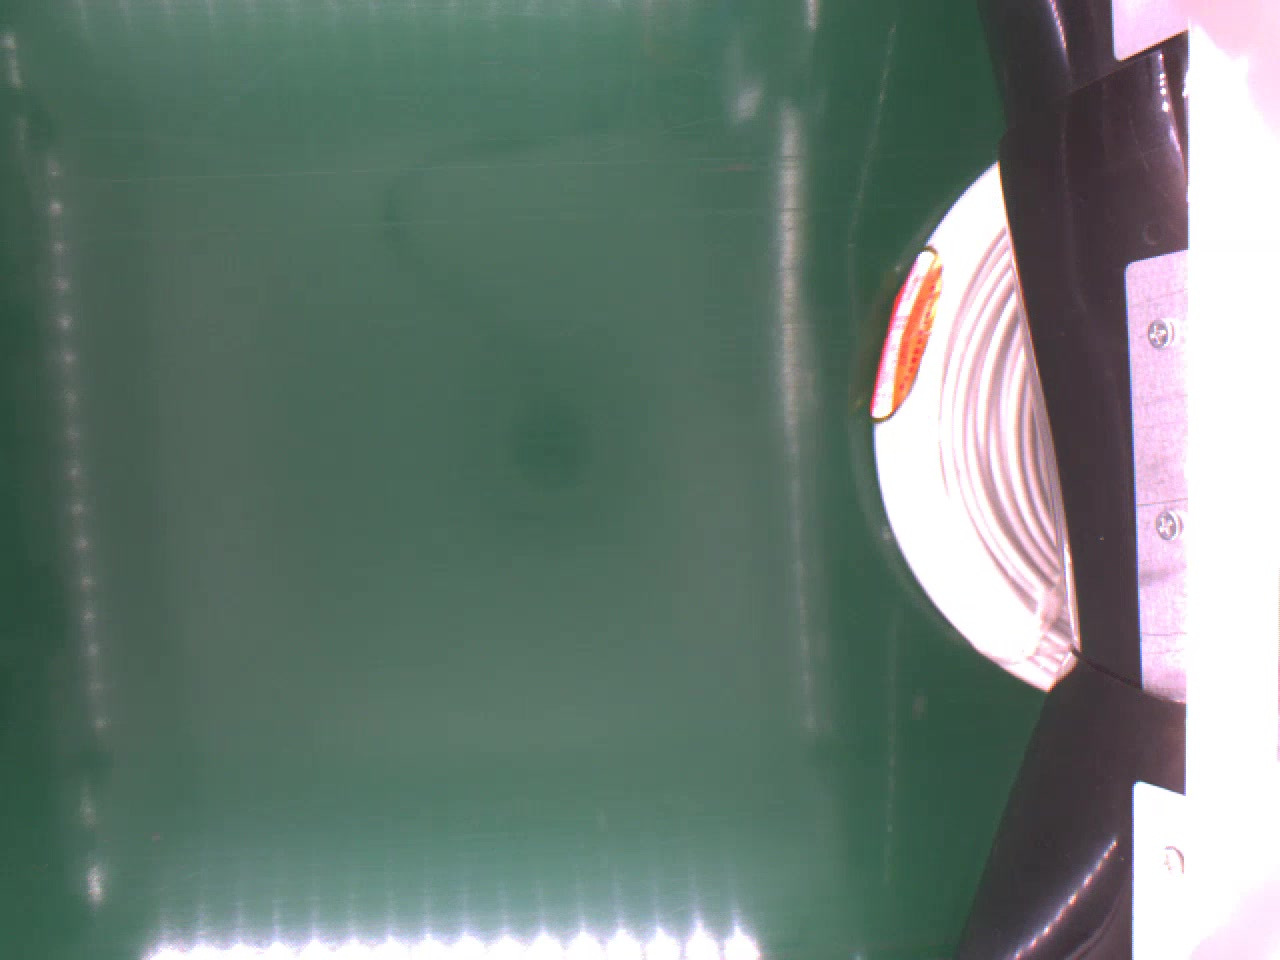white: (856, 158, 1075, 697)
